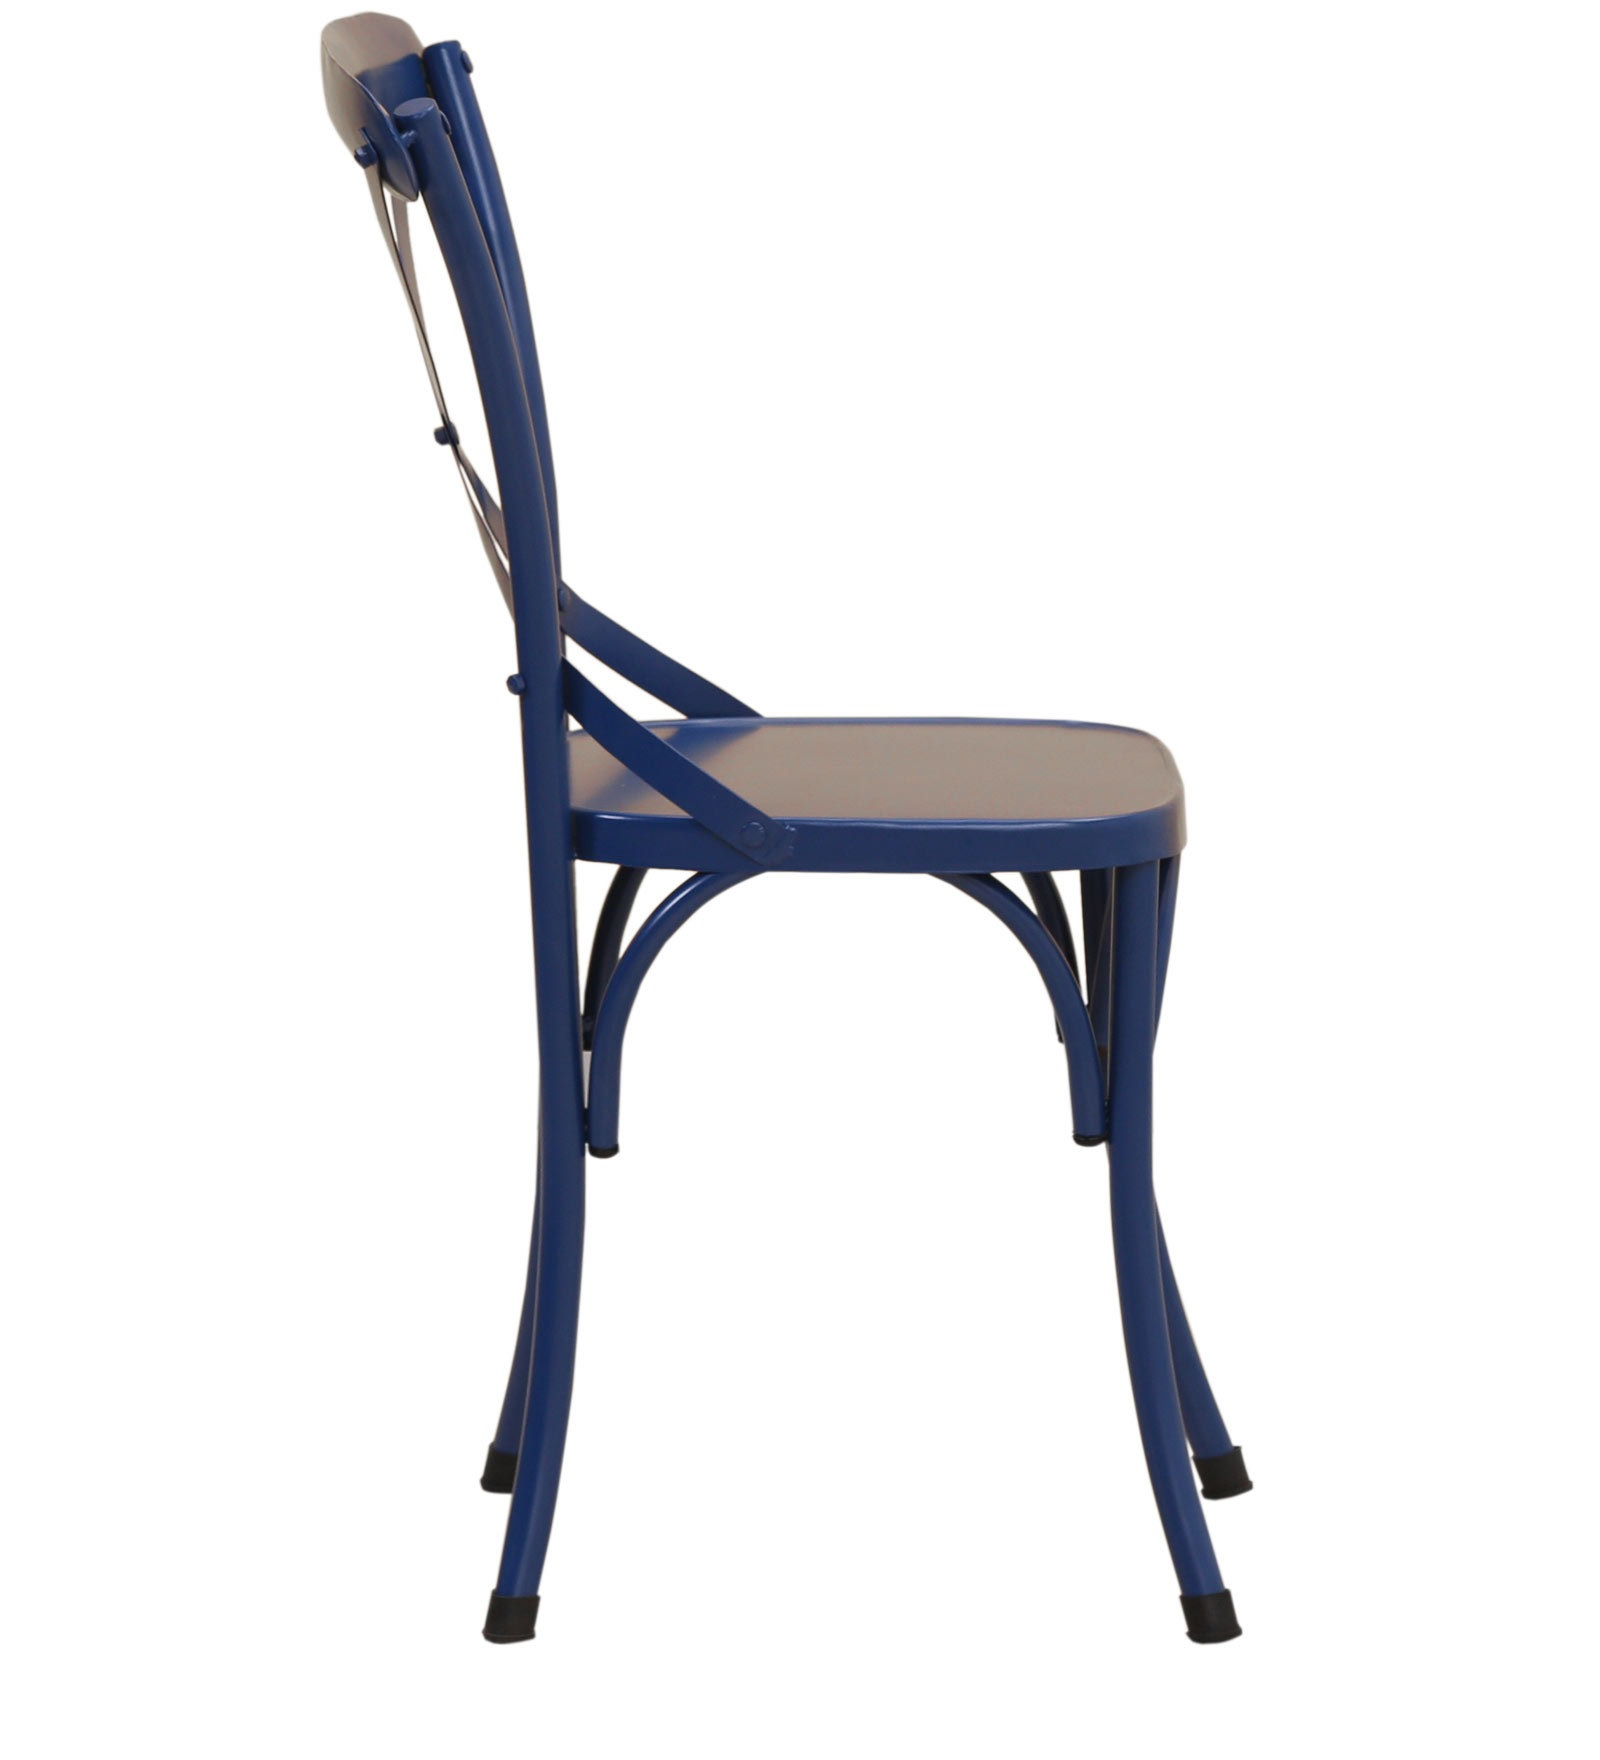Fabian Metal Chair in Blue Color by Bohemiana: (285, 9, 1359, 1677)
